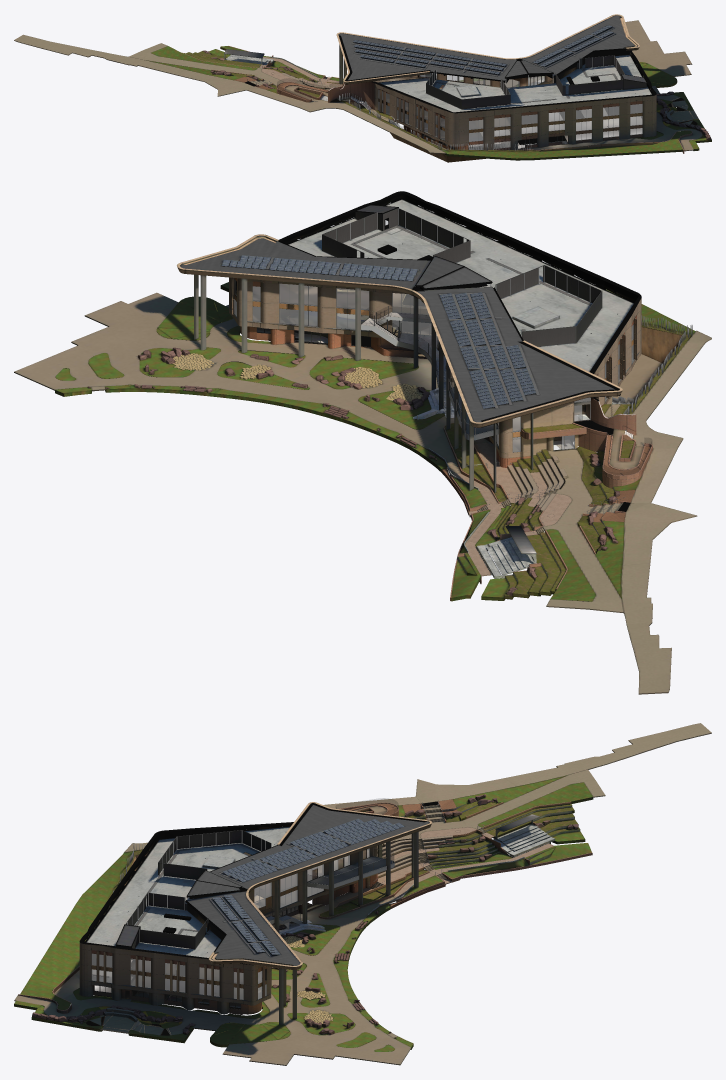
File: Caulfield-Grammar_1.08.glb
3 renders of one model, top to bottom at view 1: azimuth 30°, elevation 25°; view 2: azimuth 150°, elevation 25°; view 3: azimuth 270°, elevation 25°, orthographic. The views are drawn at different scales.
Visible parts, largest first — view 1: BRICK 2, ROOFING, PAVING-1X, SCREED, PLANTING-A, GLAZING, SOLAR, PAVING-1, ROOF-FENCE, METAL-EDGE, SLABS-2, SOFFIT (+16 smaller); view 2: PAVING-1, PLANTING-A, PAVING-1X, ROOFING, SCREED, BRICK 2, SOLAR, MULLIONS, ROOF-FENCE, PLANT-MEDIA, METAL-EDGE, GLAZING (+17 smaller); view 3: PLANTING-A, PAVING-1, SCREED, PAVING-1X, ROOFING, BRICK 2, SOLAR, ROOF-FENCE, MULLIONS, METAL-EDGE, GLAZING, PLANT-MEDIA (+16 smaller).
Part boxes in pixels (x1,y1,x2,y2): BRICK 2: (374,53,656,150); ROOFING: (224,15,646,82); PAVING-1X: (14,34,698,153); SCREED: (378,54,651,112); PLANTING-A: (146,46,711,160); GLAZING: (378,73,642,149); SOLAR: (351,25,617,103); PAVING-1: (416,20,702,151); ROOF-FENCE: (426,55,646,109); METAL-EDGE: (336,14,639,138); SLABS-2: (284,76,642,149); SOFFIT: (339,36,656,113); PAVING-1: (14,292,663,473); PLANTING-A: (55,282,695,601); PAVING-1X: (91,330,711,694); ROOFING: (180,205,619,553); SCREED: (288,199,633,434); BRICK 2: (229,193,641,458); SOLAR: (221,225,591,408); MULLIONS: (194,203,639,492); ROOF-FENCE: (322,207,602,346); PLANT-MEDIA: (444,423,634,599); METAL-EDGE: (177,221,636,427); GLAZING: (234,220,633,452); PLANTING-A: (14,775,593,1051); PAVING-1: (14,896,411,1065); SCREED: (86,826,393,957); PAVING-1X: (86,723,711,1037); ROOFING: (116,803,540,965); BRICK 2: (79,824,377,1014); SOLAR: (135,818,404,956); ROOF-FENCE: (115,830,271,949); MULLIONS: (85,826,418,1024); METAL-EDGE: (96,802,432,1000); GLAZING: (92,848,369,999); PLANT-MEDIA: (319,804,579,917).
Size of the model in its own units: 0.8846 by 0.0935 by 0.8169.
49 materials, 47 textured.
